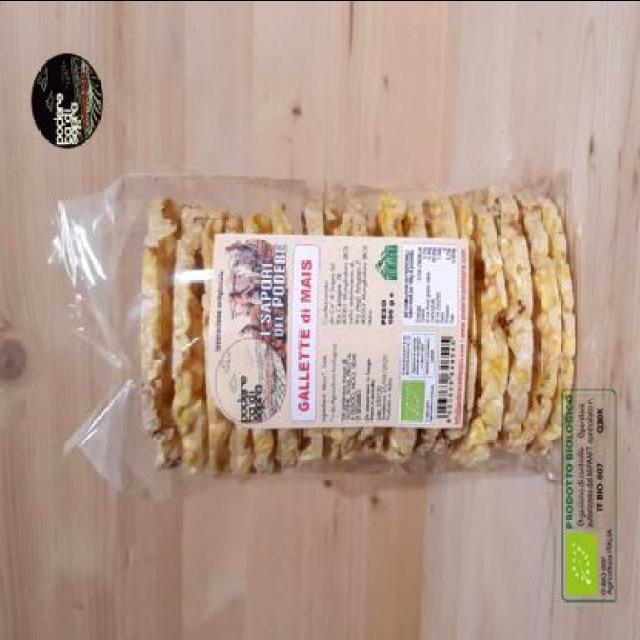Gallette di riso: (63, 152, 586, 514)
